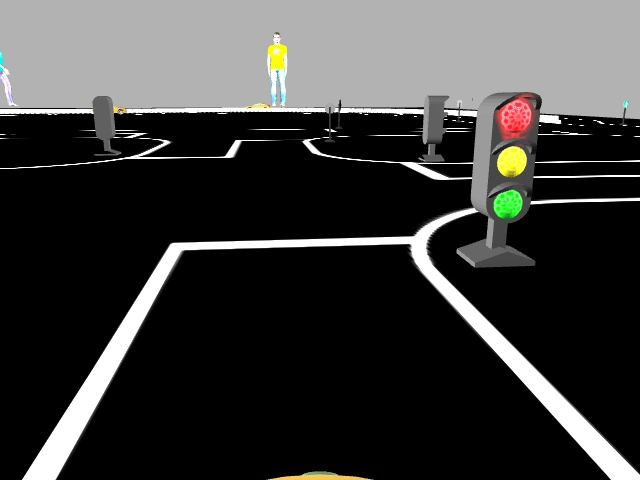TrafficLight: (473, 85, 541, 224)
